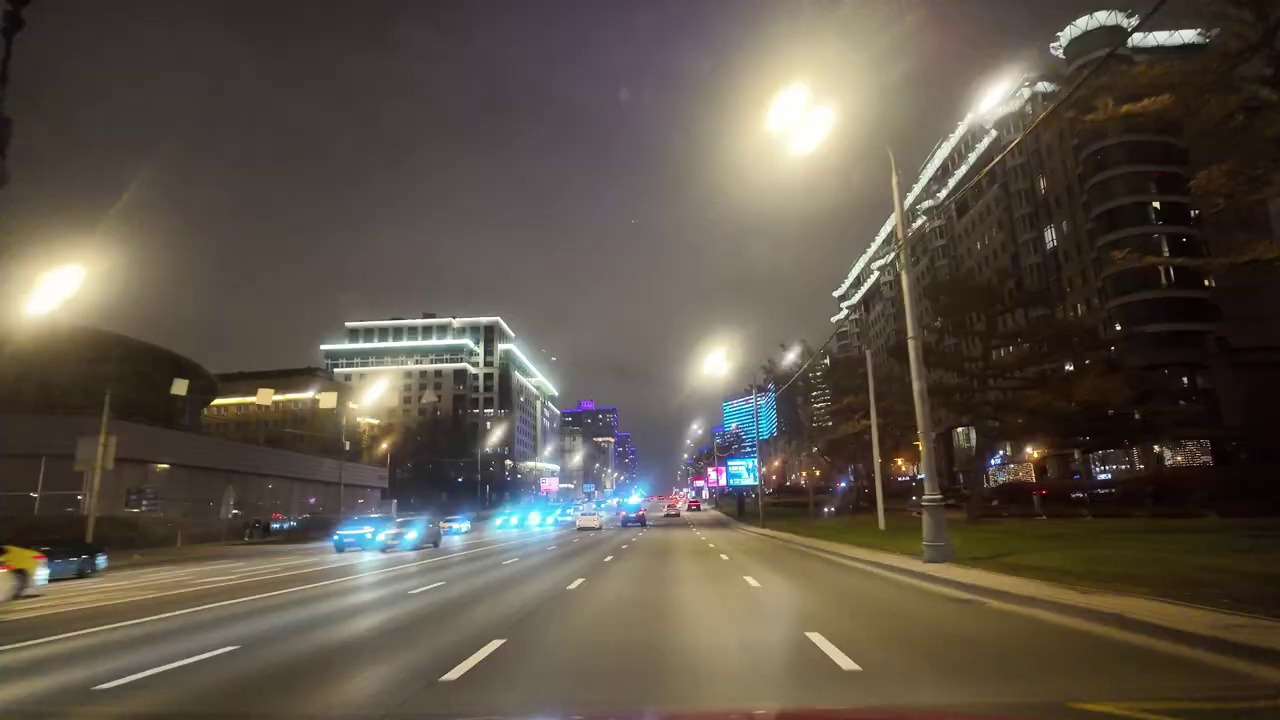acesa: (759, 76, 847, 164), (13, 258, 97, 327), (967, 66, 1030, 123), (689, 333, 742, 389)
